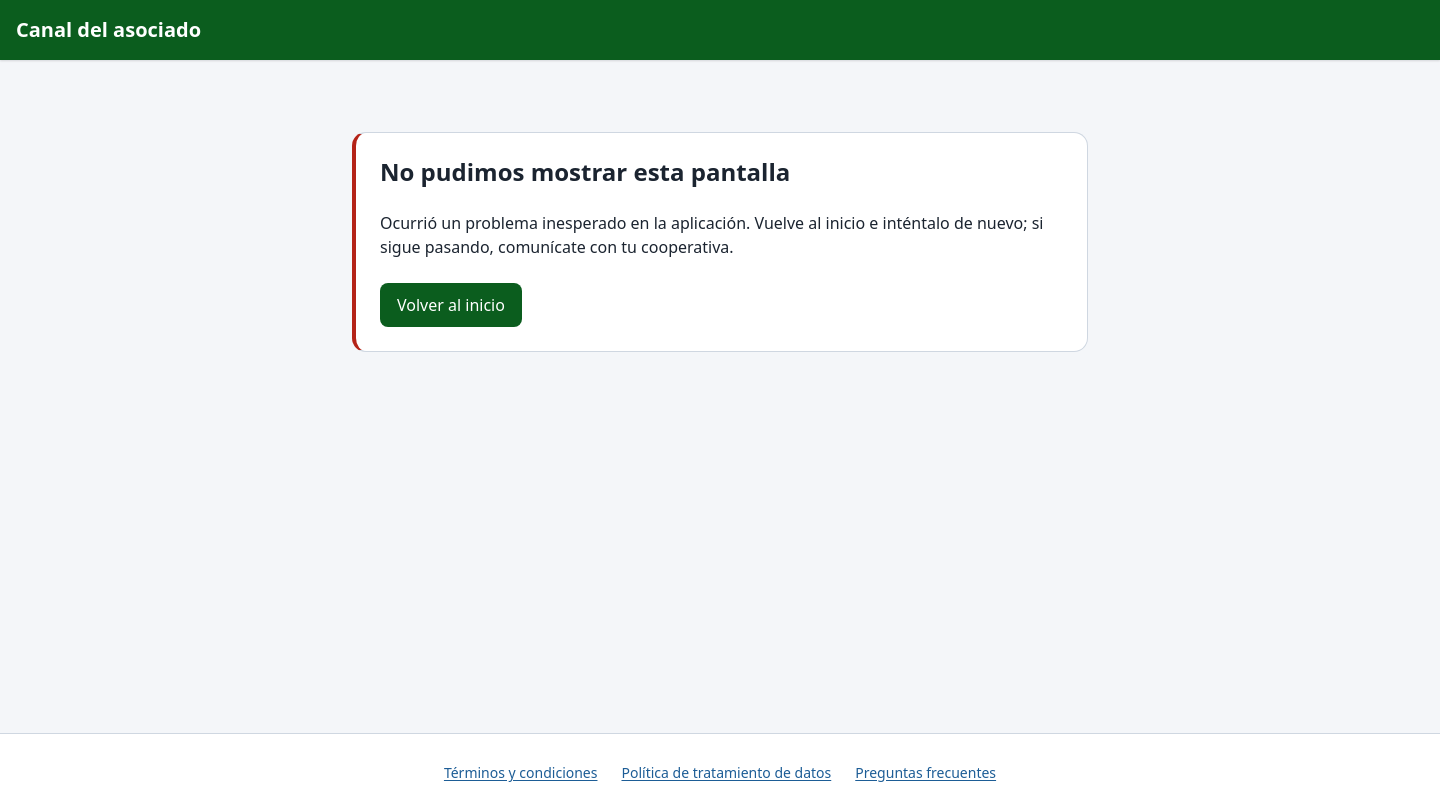
Test: rutas › un error en una pantalla muestra el mensaje en español y deja volver al inicio
Expected: the heading "No pudimos mostrar esta pantalla" is shown, [380,157,790,187]
Expected: the message shows "Vuelve al inicio e inténtalo de nuevo", [380,212,1044,258]
What coordinates should you click on to do the following:
click the button "Volver al inicio"
I would click on:
 (451, 305)
Its box is [380,283,522,327].
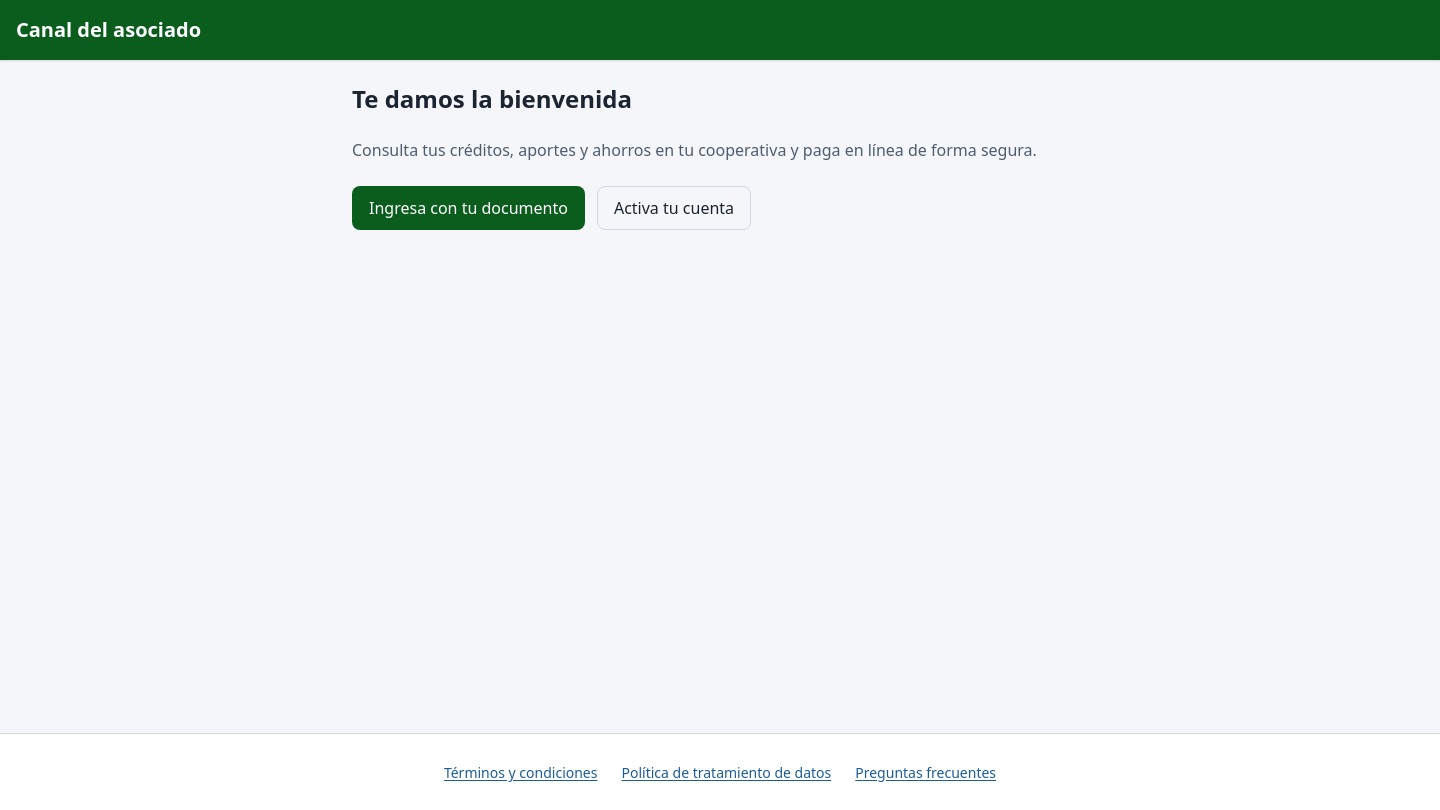
Result: the heading "Te damos la bienvenida" is shown at [352,82,632,115]
